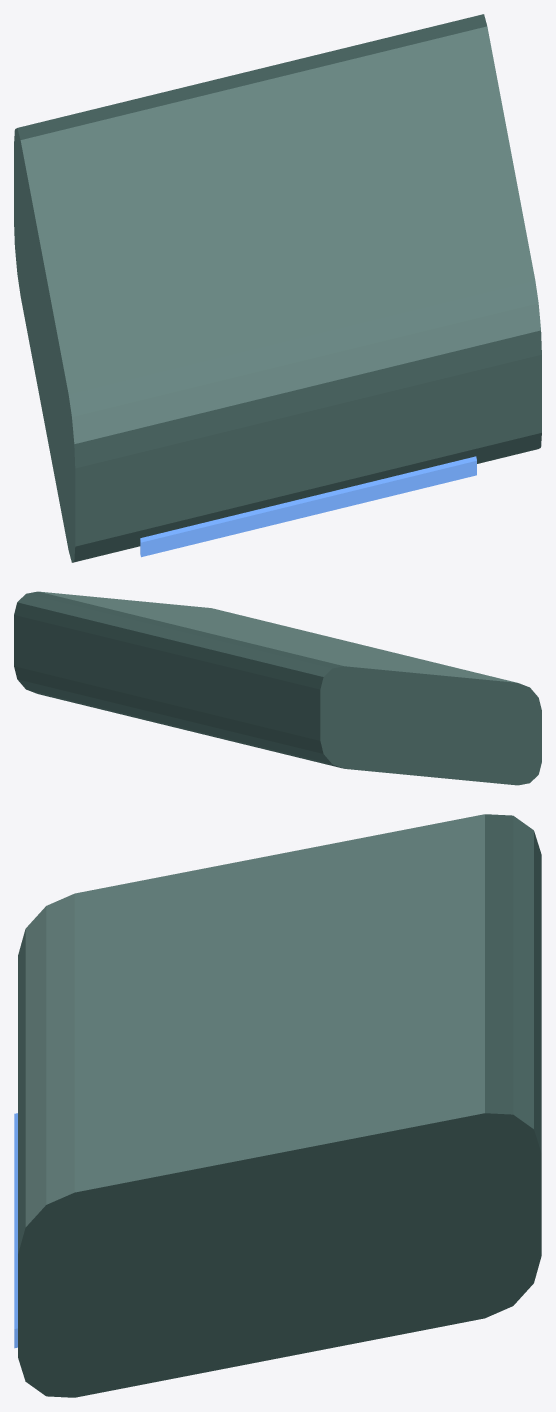
Rendered from Door_Lintel.gltf.
3 views of the same model, one above another, from view 1: azimuth 30°, elevation 25°; view 2: azimuth 150°, elevation 25°; view 3: azimuth 270°, elevation 25° (orthographic). The views are drawn at different scales.
Parts seen in each view (by area): view 1: Door_Lintel_baked; view 2: Door_Lintel_baked; view 3: Door_Lintel_baked.
Part boxes in pixels (<box>): Door_Lintel_baked: <box>14,14,541,562</box>; Door_Lintel_baked: <box>14,591,541,785</box>; Door_Lintel_baked: <box>14,814,541,1397</box>.
Bounding box in the file's own units: 1.3 × 0.5626 × 0.745.
